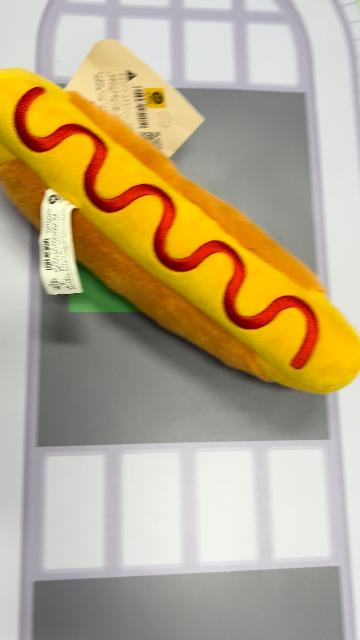hotdog: (1, 67, 358, 396)
